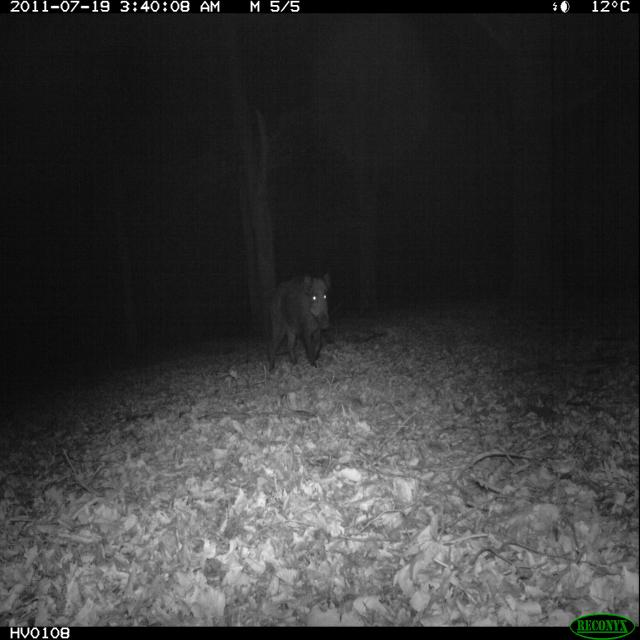boar: (228, 243, 358, 380)
